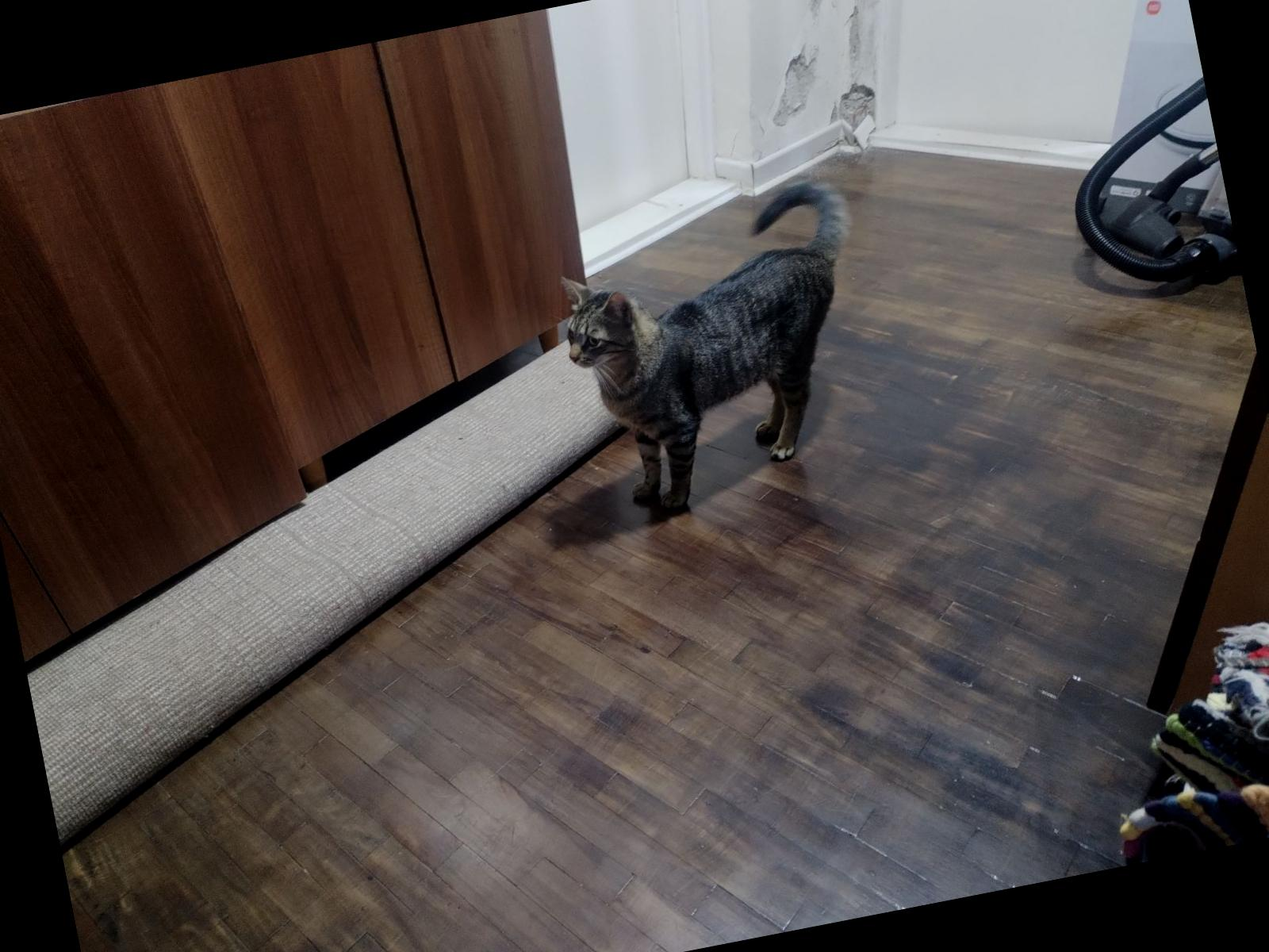macka: (542, 171, 899, 522)
